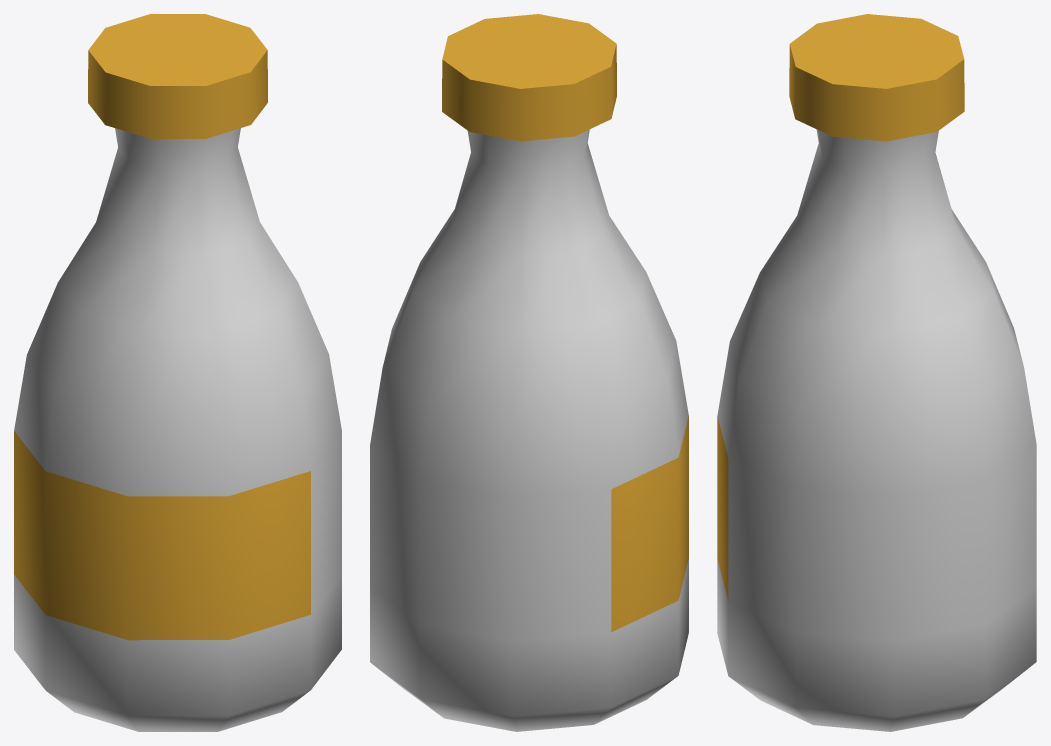
File: antibioticos.glb
3 views of the same model, side by side, from view 1: azimuth 30°, elevation 25°; view 2: azimuth 150°, elevation 25°; view 3: azimuth 270°, elevation 25° (orthographic).
Parts seen in each view (by area): view 1: Environment_Bottle; view 2: Environment_Bottle; view 3: Environment_Bottle.
Part boxes in pixels (<box>): Environment_Bottle: <box>14,14,341,731</box>; Environment_Bottle: <box>370,14,688,731</box>; Environment_Bottle: <box>717,14,1036,731</box>.
Size of the model in its own units: 0.9852 by 2.1 by 0.97.
